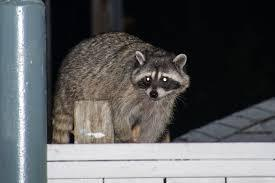raccoon: (42, 22, 200, 155)
